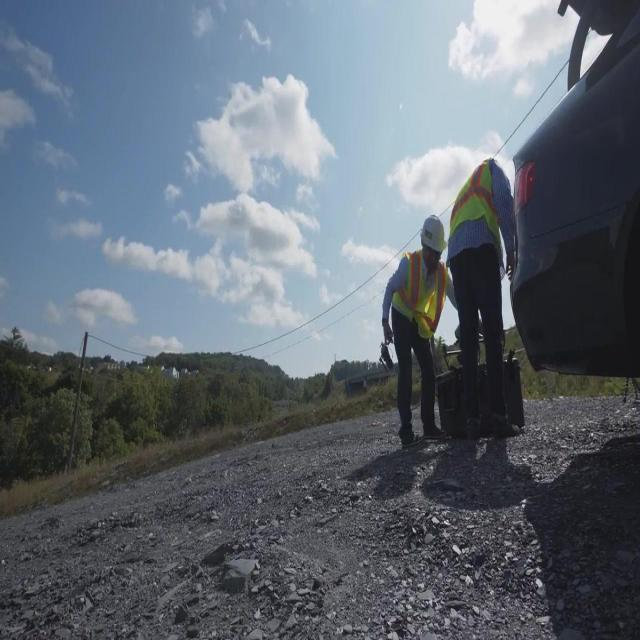Reflective-Jacket: (387, 247, 452, 350), (444, 157, 511, 255)
Safety-Helmet: (472, 121, 508, 174), (416, 207, 450, 260)
